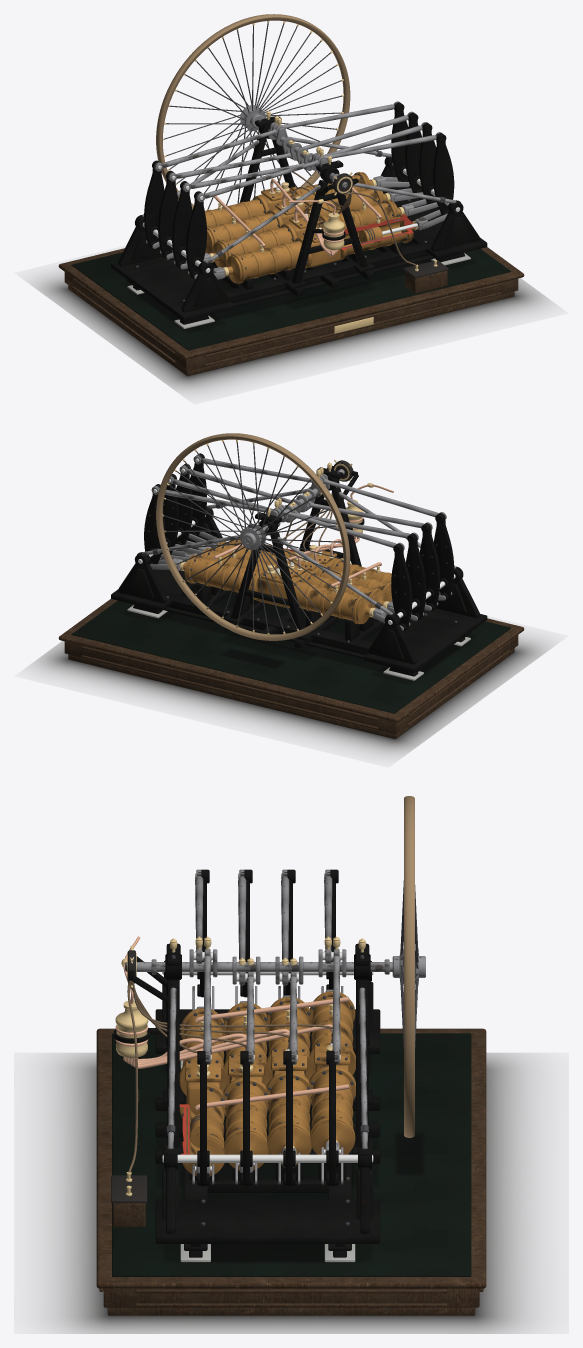
The model's file is kostovich-motor.glb.
3 renders of one model, top to bottom at view 1: azimuth 30°, elevation 25°; view 2: azimuth 150°, elevation 25°; view 3: azimuth 270°, elevation 25°, orthographic. The views are drawn at different scales.
Parts seen in each view (by area): view 1: stanina~chugun-kraska, postament~derevo-oreh, postament~pol-studiya, postament~sukno, cilindry~bronza-litaya, koromysla-i-tyagi~chugun-kraska, koromysla-i-tyagi~stal, mahovik~stal-temnaya, postament~ten-sukno, mahovik~bronza-obod, stanina~stal, porshen-v-razreze~stal (+8 smaller); view 2: postament~sukno, stanina~chugun-kraska, postament~derevo-oreh, postament~pol-studiya, koromysla-i-tyagi~chugun-kraska, cilindry~bronza-litaya, mahovik~stal-temnaya, koromysla-i-tyagi~stal, postament~ten-sukno, mahovik~bronza-obod, stanina~stal, porshen-v-razreze~stal (+5 smaller); view 3: postament~sukno, postament~pol-studiya, postament~derevo-oreh, stanina~chugun-kraska, cilindry~bronza-litaya, koromysla-i-tyagi~chugun-kraska, postament~ten-sukno, koromysla-i-tyagi~stal, mahovik~bronza-obod, kolenval~stal, zazhiganie~bronza-litaya, stanina~stal (+10 smaller).
Part boxes in pixels (x1=…): stanina~chugun-kraska: x1=111, y1=116, x2=487, y2=324; postament~derevo-oreh: x1=58, y1=247, x2=524, y2=376; postament~pol-studiya: x1=28, y1=270, x2=554, y2=394; postament~sukno: x1=72, y1=241, x2=510, y2=350; cilindry~bronza-litaya: x1=205, y1=172, x2=415, y2=283; koromysla-i-tyagi~chugun-kraska: x1=144, y1=102, x2=454, y2=279; koromysla-i-tyagi~stal: x1=154, y1=101, x2=441, y2=202; mahovik~stal-temnaya: x1=164, y1=22, x2=341, y2=209; postament~ten-sukno: x1=122, y1=241, x2=475, y2=332; mahovik~bronza-obod: x1=156, y1=14, x2=350, y2=211; stanina~stal: x1=142, y1=136, x2=456, y2=263; porshen-v-razreze~stal: x1=146, y1=175, x2=447, y2=279; postament~sukno: x1=72, y1=586, x2=510, y2=713; stanina~chugun-kraska: x1=111, y1=467, x2=487, y2=676; postament~derevo-oreh: x1=58, y1=599, x2=524, y2=738; postament~pol-studiya: x1=28, y1=633, x2=554, y2=757; koromysla-i-tyagi~chugun-kraska: x1=144, y1=453, x2=454, y2=630; cilindry~bronza-litaya: x1=183, y1=539, x2=392, y2=624; mahovik~stal-temnaya: x1=163, y1=442, x2=341, y2=632; koromysla-i-tyagi~stal: x1=151, y1=455, x2=446, y2=549; postament~ten-sukno: x1=122, y1=586, x2=475, y2=684; mahovik~bronza-obod: x1=156, y1=433, x2=350, y2=640; stanina~stal: x1=142, y1=488, x2=456, y2=614; porshen-v-razreze~stal: x1=150, y1=532, x2=452, y2=630; postament~sukno: x1=112, y1=1033, x2=471, y2=1276; postament~pol-studiya: x1=40, y1=1053, x2=542, y2=1333; postament~derevo-oreh: x1=96, y1=1028, x2=486, y2=1315; stanina~chugun-kraska: x1=155, y1=943, x2=380, y2=1257; cilindry~bronza-litaya: x1=179, y1=991, x2=355, y2=1175; koromysla-i-tyagi~chugun-kraska: x1=197, y1=869, x2=338, y2=1186; postament~ten-sukno: x1=156, y1=1054, x2=423, y2=1262; koromysla-i-tyagi~stal: x1=195, y1=869, x2=340, y2=1064; mahovik~bronza-obod: x1=404, y1=796, x2=414, y2=1137; kolenval~stal: x1=125, y1=949, x2=392, y2=984; zazhiganie~bronza-litaya: x1=185, y1=1044, x2=350, y2=1114; stanina~stal: x1=167, y1=987, x2=367, y2=1149.
Size of the model in its own units: 4.8 by 3.03 by 4.
19 materials, 7 textured.
